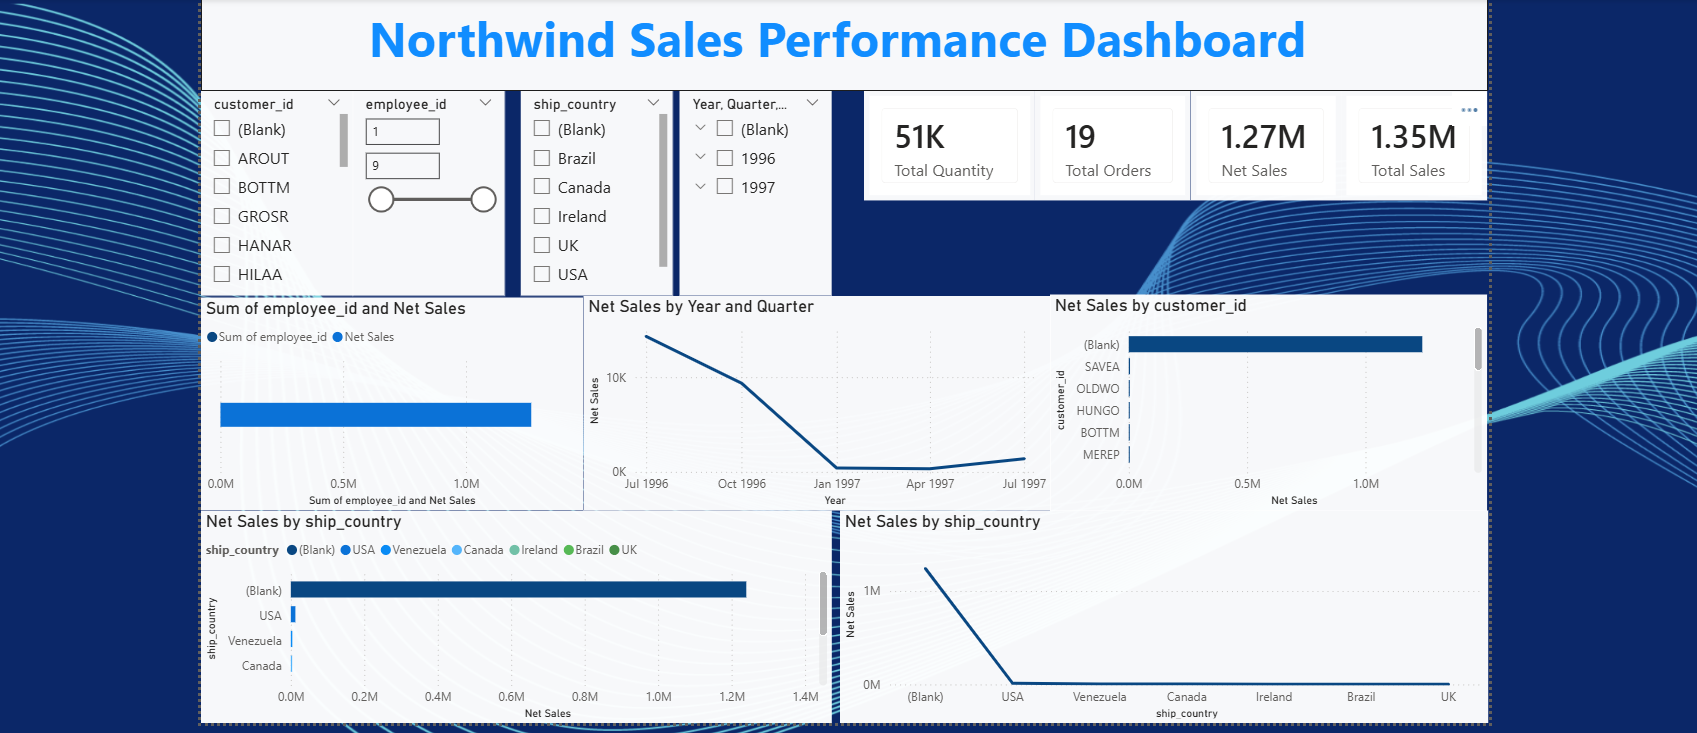

The page's visual inventory and layout, read from the dashboard file:
{"tool":"powerbi","page":{"name":"Northwind Sales Performance Dashboard","canvas":[1280,720],"ordinal":0},"visuals":[{"type":"cardVisual","fields":{"Data":["northwind_orders.Total Sales"]},"box":[1133.9,90.7,145.5,109.6],"z":0},{"type":"cardVisual","fields":{"Data":["northwind_orders.Total Orders"]},"box":[829.6,90.7,155,109.6],"z":1000},{"type":"barChart","title":"Net Sales by ship_country","fields":{"Category":["northwind_orders.ship_country"],"Y":["northwind_orders.Net Sales"],"Series":["northwind_orders.ship_country"]},"box":[0,508.4,627.4,211.7],"z":2000},{"type":"cardVisual","fields":{"Data":["northwind_orders.Total Quantity"]},"box":[659.5,90.7,170.1,109.6],"z":3000},{"type":"cardVisual","fields":{"Data":["northwind_orders.Net Sales"]},"box":[984.6,90.7,149.3,109.6],"z":4000},{"type":"lineChart","fields":{"Y":["northwind_orders.Net Sales"],"Category":["northwind_orders.order_date.Variation.Date Hierarchy.Year","northwind_orders.order_date.Variation.Date Hierarchy.Quarter","northwind_orders.order_date.Variation.Date Hierarchy.Month","northwind_orders.order_date.Variation.Date Hierarchy.Day"]},"box":[379.8,294.8,464.9,213.5],"z":5000},{"type":"lineChart","fields":{"Category":["northwind_orders.ship_country"],"Y":["northwind_orders.Net Sales"]},"box":[635,508.4,644.4,211.7],"z":6000},{"type":"barChart","fields":{"Y":["Sum(northwind_orders.employee_id)","northwind_orders.Net Sales"]},"box":[0,296.7,379.8,211.7],"z":7000},{"type":"barChart","fields":{"Category":["northwind_orders.customer_id"],"Y":["northwind_orders.Net Sales"]},"box":[844.9,293.8,434.6,215],"z":8000},{"type":"slicer","fields":{"Values":["northwind_orders.customer_id"]},"box":[0,90.7,151.2,204.1],"z":9000},{"type":"slicer","fields":{"Values":["northwind_orders.employee_id"]},"box":[151.2,90.7,151.2,204.1],"z":10000},{"type":"slicer","fields":{"Values":["northwind_orders.ship_country"]},"box":[317.5,90.7,151.2,204.1],"z":11000},{"type":"slicer","fields":{"Values":["northwind_orders.order_date.Variation.Date Hierarchy.Year","northwind_orders.order_date.Variation.Date Hierarchy.Quarter","northwind_orders.order_date.Variation.Date Hierarchy.Month","northwind_orders.order_date.Variation.Date Hierarchy.Day"]},"box":[476.2,90.7,151.2,204.1],"z":12000},{"type":"textbox","box":[0,0,1279.4,90.7],"z":13000}]}

Visuals, with their boxes in screenshot pixels (x1, y1, x2, y2):
cardVisual - northwind_orders.Total Sales: pyautogui.locateOnScreen(1334, 87, 1480, 197)
cardVisual - northwind_orders.Total Orders: pyautogui.locateOnScreen(1028, 87, 1184, 197)
"Net Sales by ship_country" barChart: pyautogui.locateOnScreen(194, 506, 825, 719)
cardVisual - northwind_orders.Total Quantity: pyautogui.locateOnScreen(857, 87, 1028, 197)
cardVisual - northwind_orders.Net Sales: pyautogui.locateOnScreen(1184, 87, 1334, 197)
lineChart - northwind_orders.Net Sales x northwind_orders.order_date.Variation.Date Hierarchy.Year: pyautogui.locateOnScreen(576, 292, 1043, 506)
lineChart - northwind_orders.ship_country x northwind_orders.Net Sales: pyautogui.locateOnScreen(832, 506, 1480, 719)
barChart - Sum(northwind_orders.employee_id) x northwind_orders.Net Sales: pyautogui.locateOnScreen(194, 294, 576, 506)
barChart - northwind_orders.customer_id x northwind_orders.Net Sales: pyautogui.locateOnScreen(1043, 291, 1480, 507)
slicer - northwind_orders.customer_id: pyautogui.locateOnScreen(194, 87, 346, 292)
slicer - northwind_orders.employee_id: pyautogui.locateOnScreen(346, 87, 498, 292)
slicer - northwind_orders.ship_country: pyautogui.locateOnScreen(513, 87, 665, 292)
slicer - northwind_orders.order_date.Variation.Date Hierarchy.Year x northwind_orders.order_date.Variation.Date Hierarchy.Quarter: pyautogui.locateOnScreen(673, 87, 825, 292)
textbox: pyautogui.locateOnScreen(194, 0, 1480, 87)
